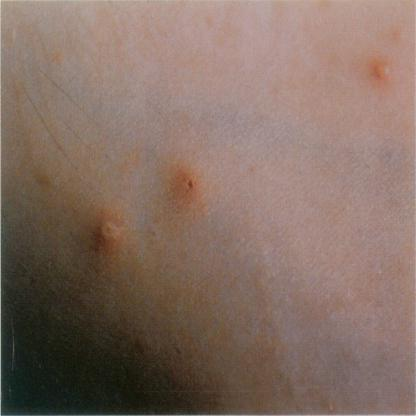Fire ant: (18, 85, 26, 103), (76, 22, 82, 36), (36, 69, 42, 82)
